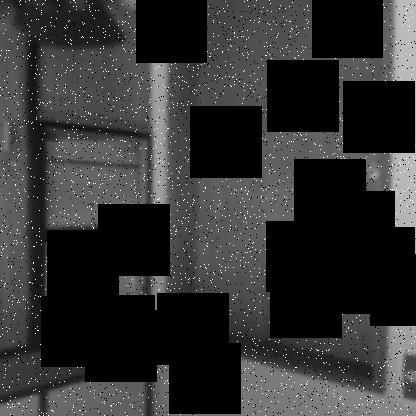Porte: (161, 0, 396, 398)
